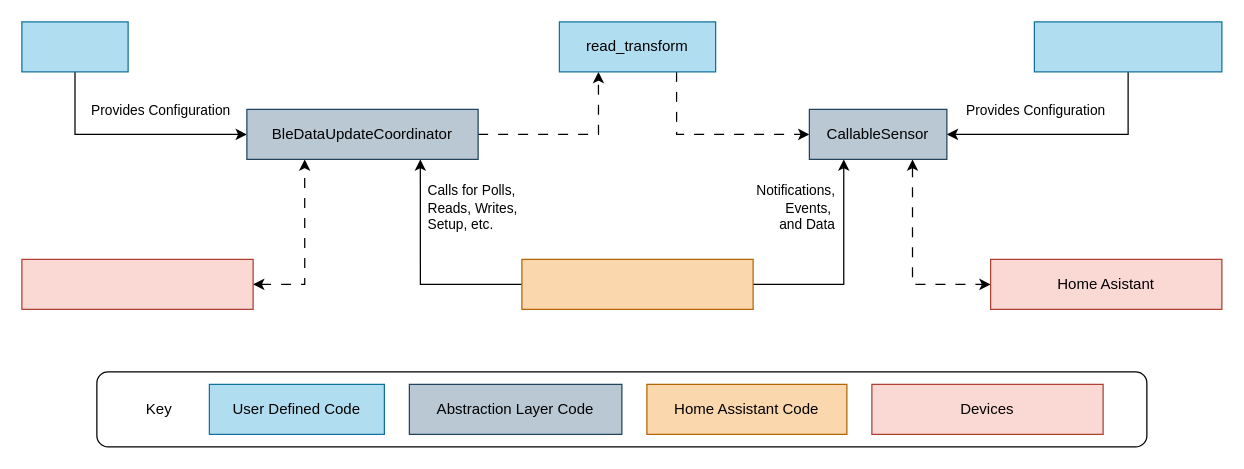
This 1244x469 diagram has some shape labels left out. Each missing label, with the box of its shape:
Bluetooth Device: (21, 258, 253, 309)
callable_description: (1033, 21, 1222, 72)
DataUpdateCoordinator: (521, 258, 753, 309)
taco_gatt: (21, 21, 128, 72)
